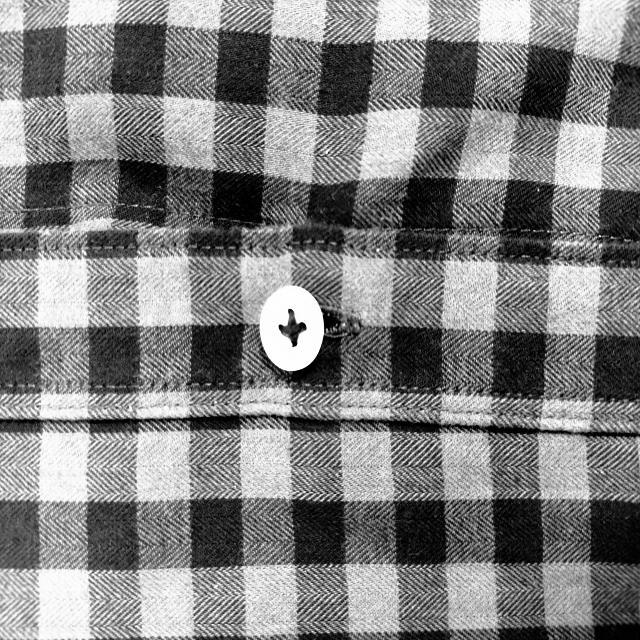Button_hike: (253, 279, 376, 382)
